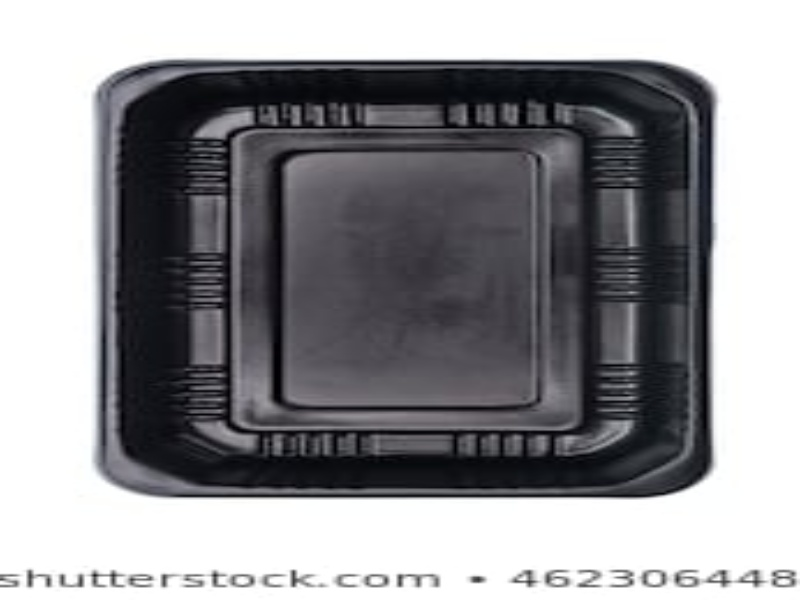plastic-container: (87, 55, 717, 504)
